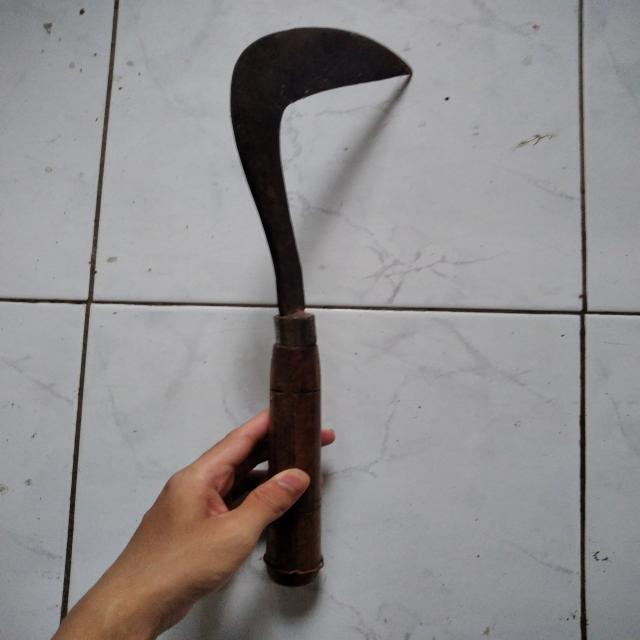Celurit: (227, 25, 415, 588)
